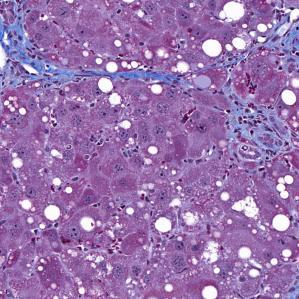fibrosis: (6, 33, 87, 91)
